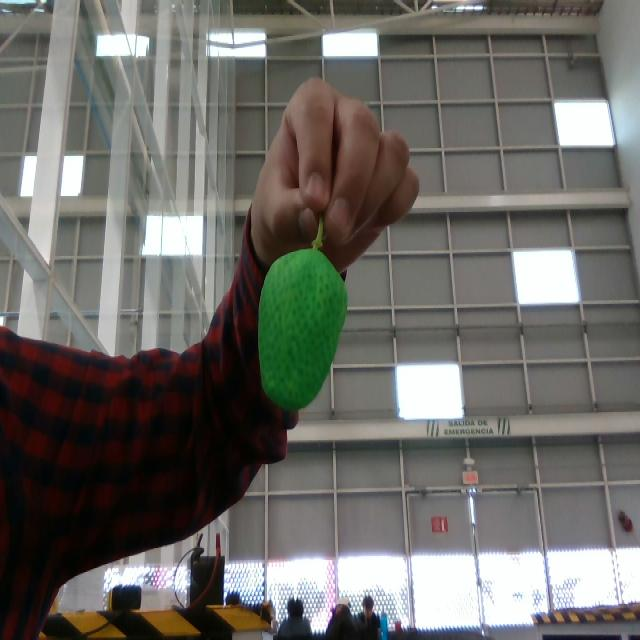verde: (258, 246, 348, 413)
